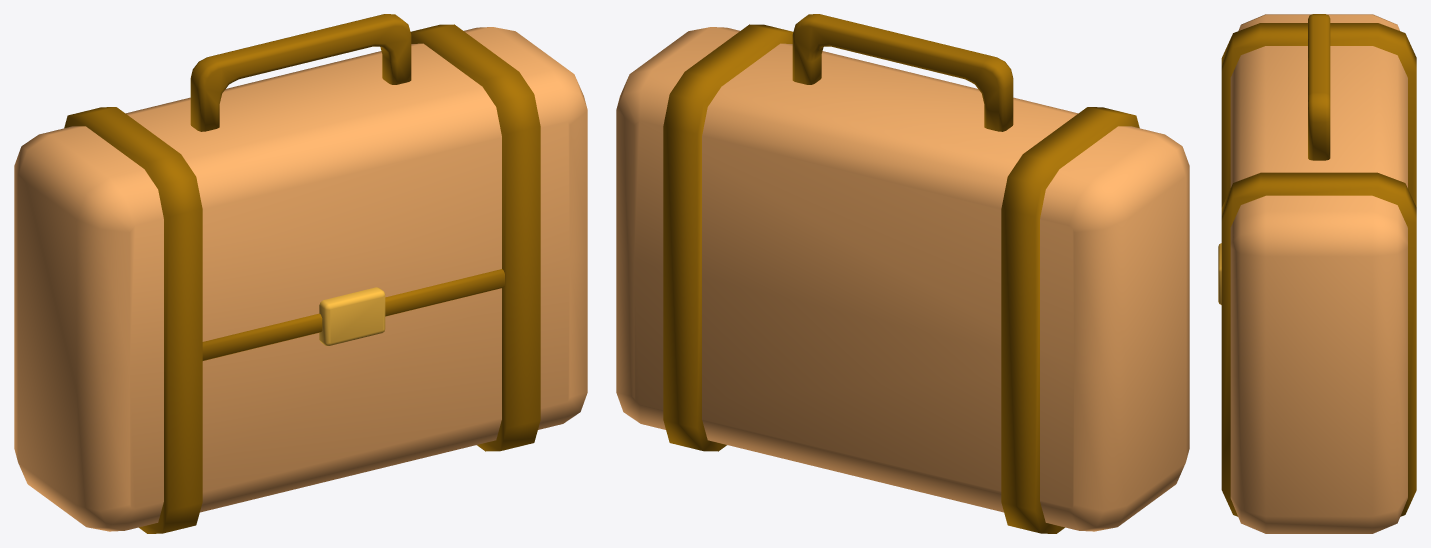
File: briefcase.glb
The picture shows the model from 3 angles, left to right: view 1: azimuth 30°, elevation 25°; view 2: azimuth 150°, elevation 25°; view 3: azimuth 270°, elevation 25°; orthographic projection. The views are drawn at different scales.
Parts seen in each view (by area): view 1: Cube.003, Cube.009, Cube.005, Cube.006, Cube.011, Cube.010; view 2: Cube.003, Cube.009, Cube.005, Cube.006; view 3: Cube.003, Cube.005, Cube.009, Cube.006.
Part boxes in pixels (x1=…): Cube.003: x1=14, y1=27, x2=587, y2=531; Cube.009: x1=64, y1=107, x2=202, y2=533; Cube.005: x1=410, y1=24, x2=540, y2=451; Cube.006: x1=190, y1=14, x2=411, y2=131; Cube.011: x1=202, y1=269, x2=504, y2=360; Cube.010: x1=319, y1=287, x2=385, y2=346; Cube.003: x1=616, y1=27, x2=1189, y2=531; Cube.009: x1=1001, y1=107, x2=1139, y2=533; Cube.005: x1=663, y1=24, x2=793, y2=451; Cube.006: x1=792, y1=14, x2=1013, y2=131; Cube.003: x1=1230, y1=14, x2=1407, y2=533; Cube.005: x1=1221, y1=172, x2=1416, y2=516; Cube.009: x1=1221, y1=23, x2=1416, y2=207; Cube.006: x1=1308, y1=14, x2=1330, y2=160.
Bounding box in the file's own units: 1.5 × 1.21 × 0.56.
Materials: 1 (1 with a texture image).
